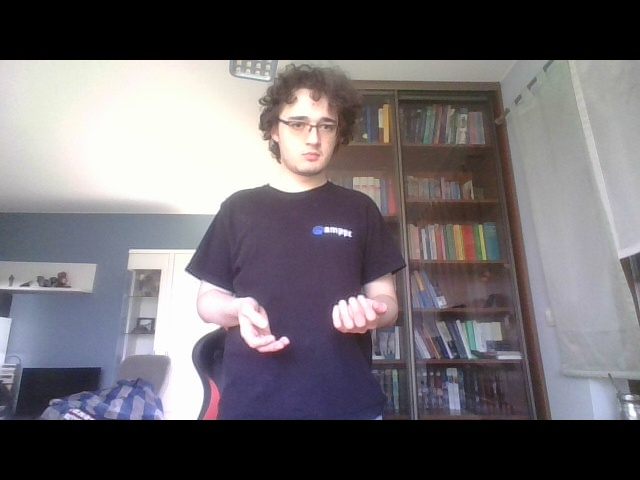hand: (235, 290, 296, 356), (326, 292, 386, 339)
